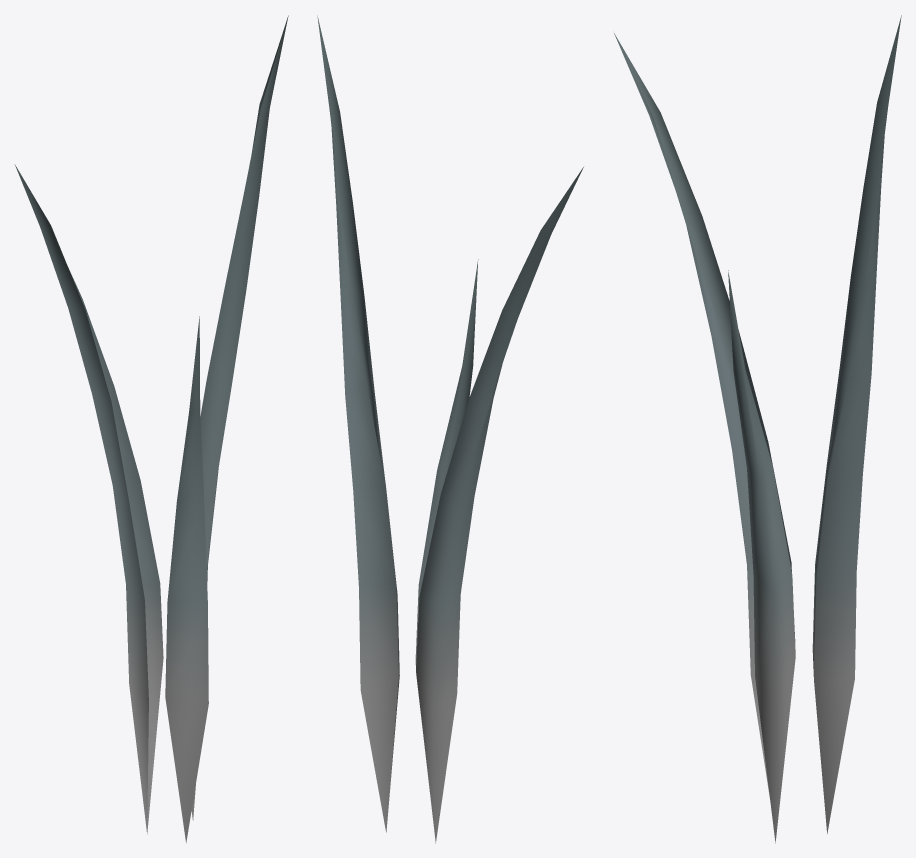
Rendered from plants-grasses-reeds-grass-blades_v5.glb.
3 views of the same model, side by side, from view 1: azimuth 30°, elevation 25°; view 2: azimuth 150°, elevation 25°; view 3: azimuth 330°, elevation 25° (orthographic). The views are drawn at different scales.
Parts seen in each view (by area): view 1: Grass Blades_v5; view 2: Grass Blades_v5; view 3: Grass Blades_v5.
Boxes of the visible parts, box(x1,y1,x2,y2) form: Grass Blades_v5: box(14, 15, 288, 843); Grass Blades_v5: box(317, 15, 583, 843); Grass Blades_v5: box(614, 15, 901, 843).
Bounding box in the file's own units: 0.1429 × 0.4 × 0.0522.
